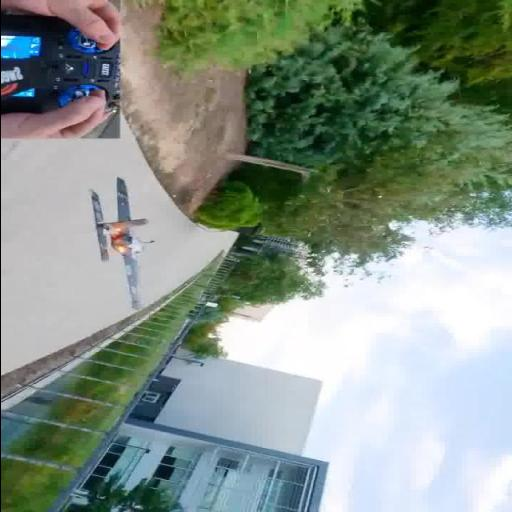uav: (76, 174, 158, 314)
